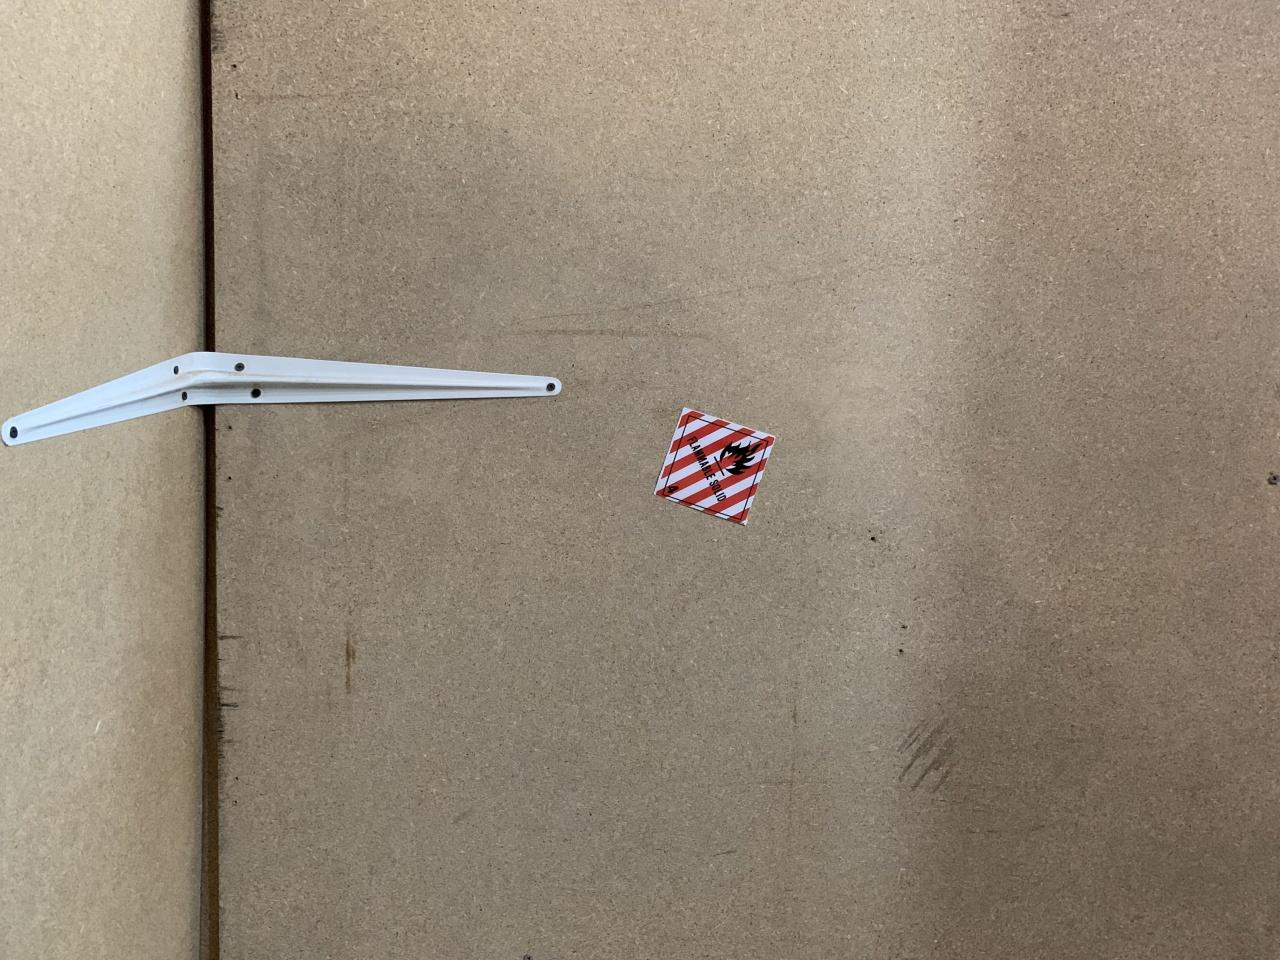flammable-solid: (650, 400, 780, 531)
